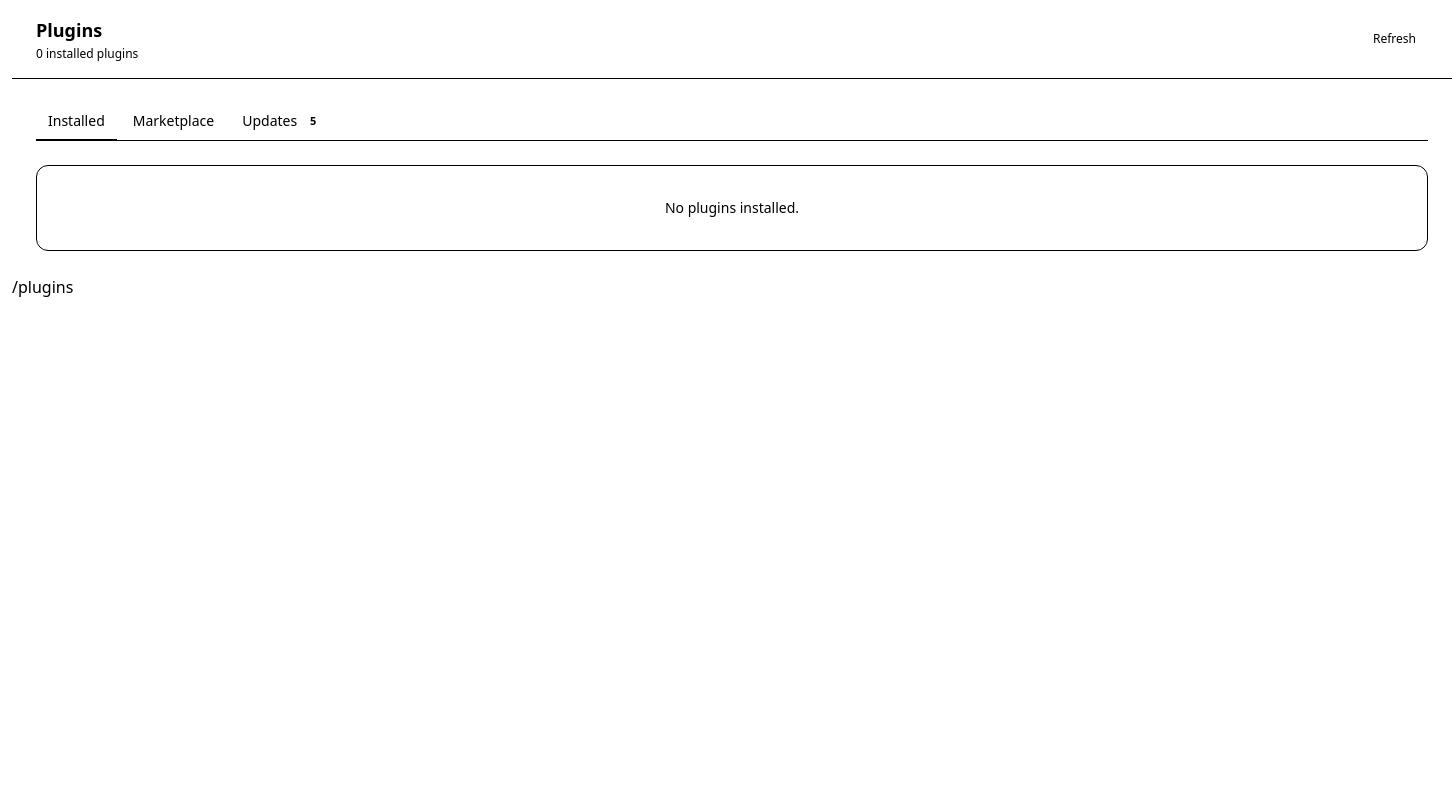
Test: Plugins → Updates › the tab shows the number of updates and opens from the URL
The width and height of the screenshot is (1452, 810).
Check: the text with test id "updates-tab-badge" reads "5", box [310, 113, 316, 128]
Click the tab "Updates 5".
click(283, 122)  # box [230, 103, 335, 141]
(page scrolled)
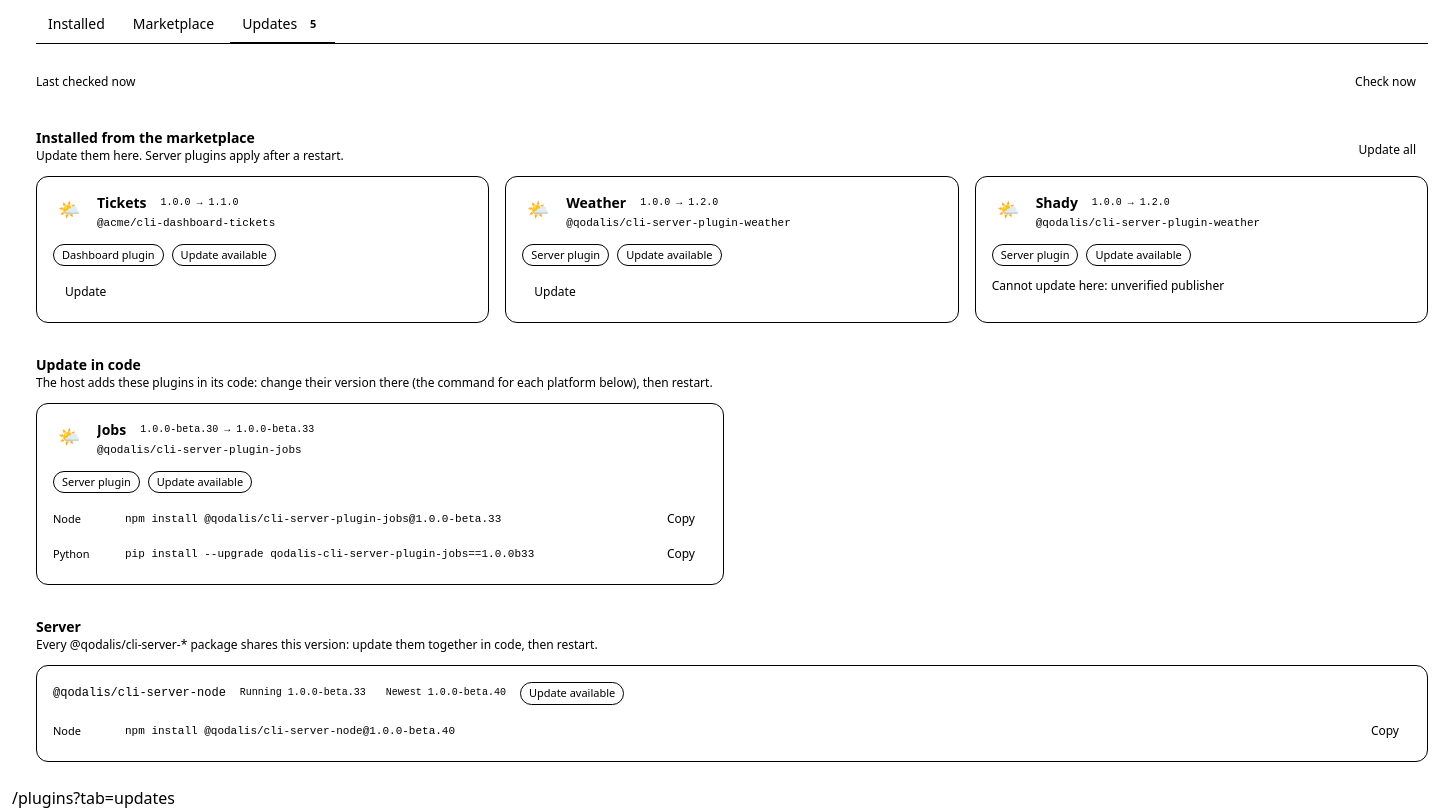
Check: the text with test id "location" reads "/plugins?tab=updates", box [12, 787, 175, 809]
Check: the element with test id "updates-tab" is shown
